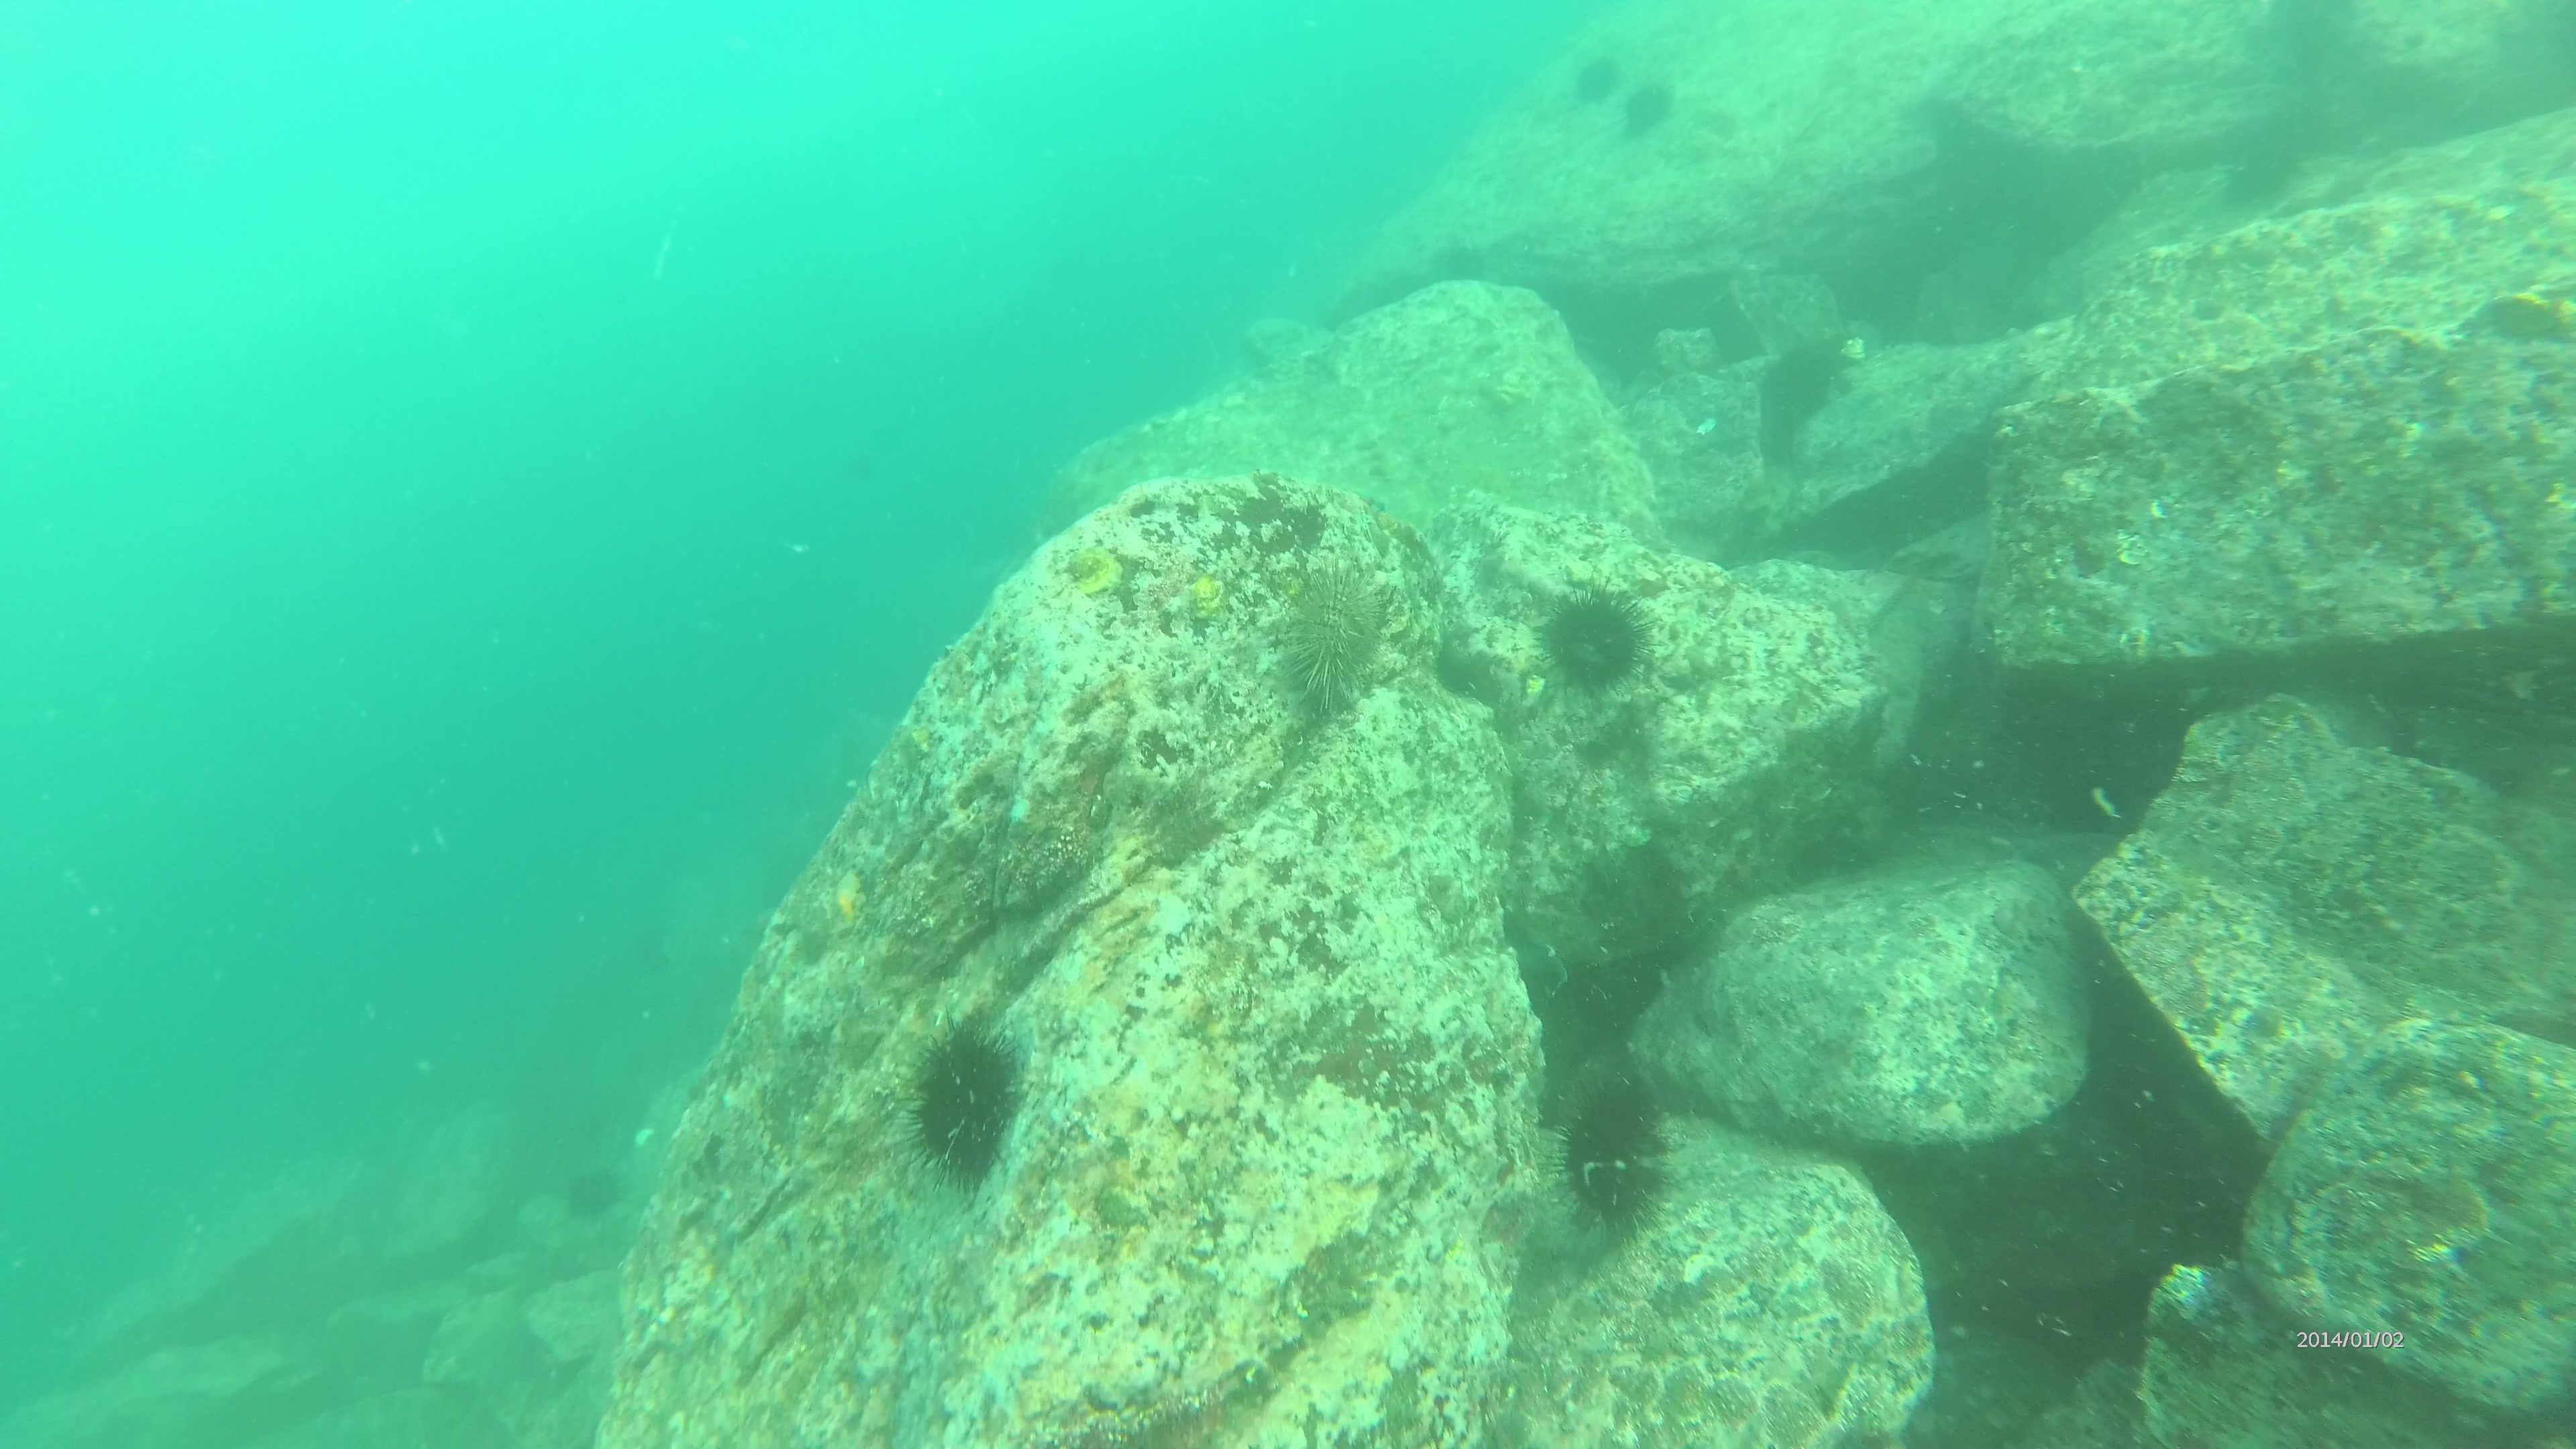echinus: (920, 993, 1033, 1182), (1265, 559, 1394, 718), (1560, 1053, 1674, 1233), (1534, 582, 1654, 699), (1608, 69, 1679, 136), (1560, 42, 1631, 106)
scallop: (1143, 547, 1230, 619), (1049, 531, 1127, 602)
